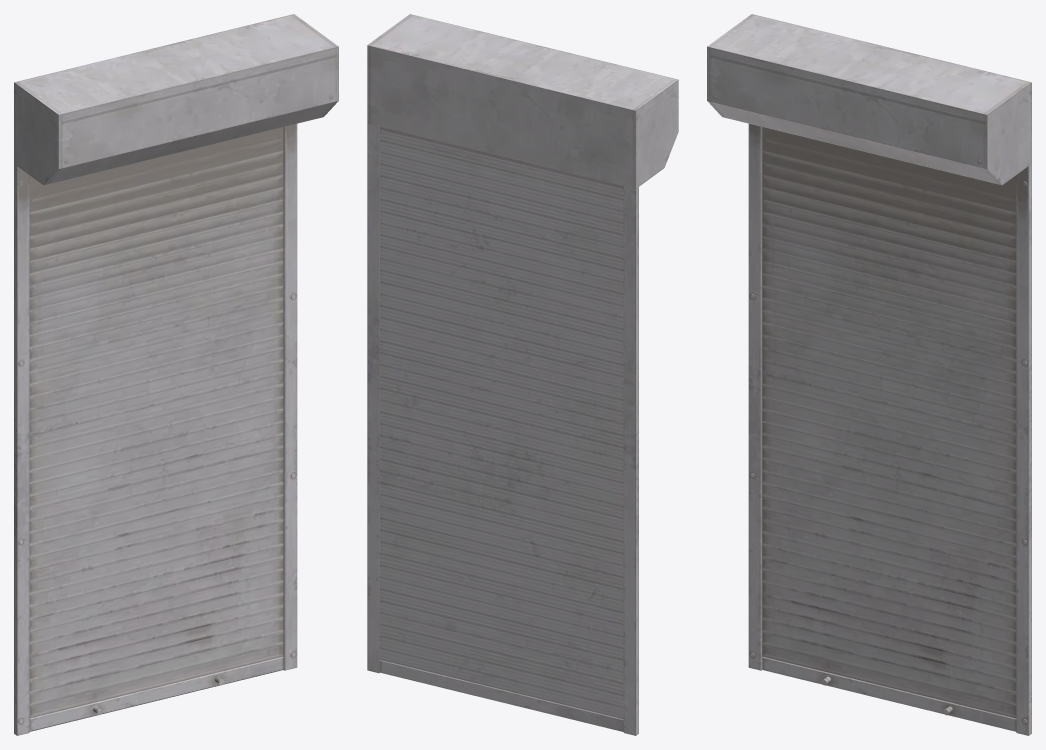
File: shutter_door.glb
3 views of the same model, side by side, from view 1: azimuth 30°, elevation 25°; view 2: azimuth 150°, elevation 25°; view 3: azimuth 330°, elevation 25° (orthographic). The views are drawn at different scales.
Parts seen in each view (by area): view 1: shutter_door; view 2: shutter_door; view 3: shutter_door.
Boxes of the visible parts, x1,y1,x2,y2 form: shutter_door: (14,14,338,735); shutter_door: (367,14,678,735); shutter_door: (707,14,1031,735).
Bounding box in the file's own units: 1.08 × 2.4 × 0.3.
Materials: 1 (1 with a texture image).
